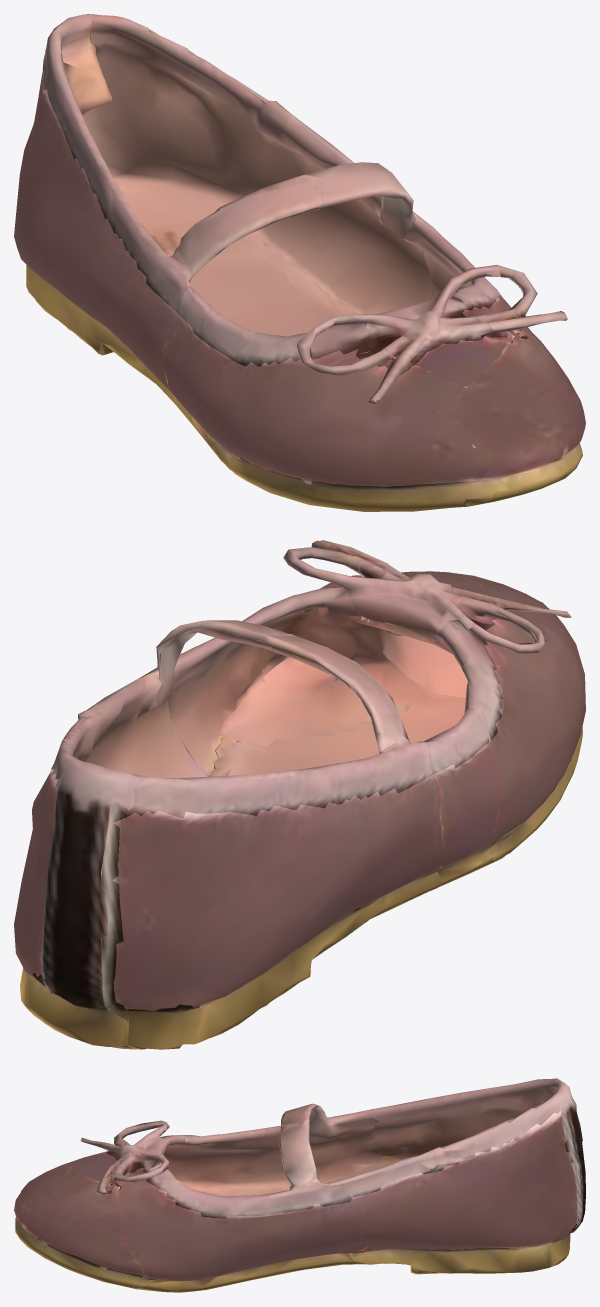
File: ropa_party_shoe_for_girls.glb
The picture shows the model from 3 angles, top to bottom: view 1: azimuth 30°, elevation 25°; view 2: azimuth 150°, elevation 25°; view 3: azimuth 270°, elevation 25°; orthographic projection. The views are drawn at different scales.
Visible parts, largest first — view 1: Object_2; view 2: Object_2; view 3: Object_2.
Part boxes in pixels (left/top/right/bottom): Object_2: left=14, top=14, right=585, bottom=511; Object_2: left=14, top=540, right=585, bottom=1049; Object_2: left=14, top=1078, right=585, bottom=1292.
Bounding box in the file's own units: 0.0697 × 0.0587 × 0.1801.
Materials: 2 (2 with a texture image).
